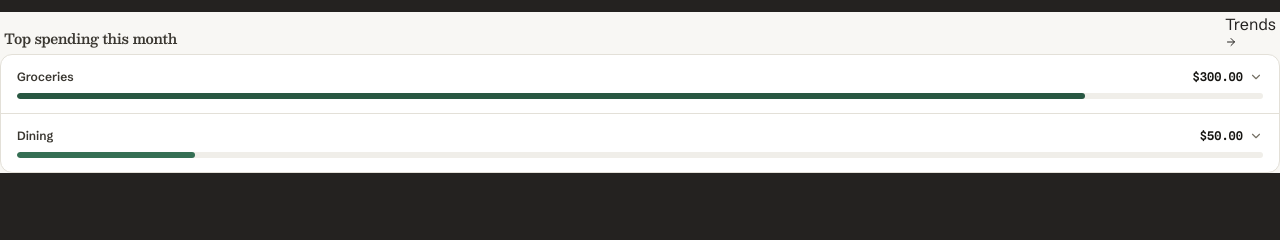
Test: CategorySpendWidget › expands a row to list its month transactions, and collapses it again
Expected: the text "Safeway" is not shown
Click the button "Groceries $300.00": click(45, 76) [17,69,1263,99]
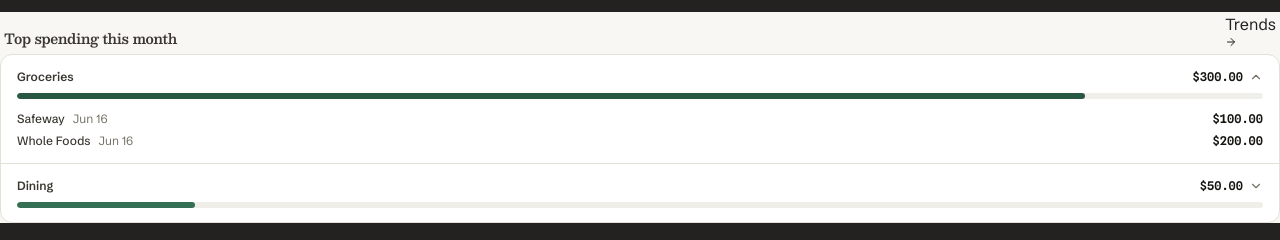
Now the button "Groceries $300.00" is expanded
Now the text "Safeway" is shown, box [17,111,65,127]
Now the text "Whole Foods" is shown, box [17,133,90,149]
Click the button "Groceries $300.00": click(45, 76) [17,69,1263,99]
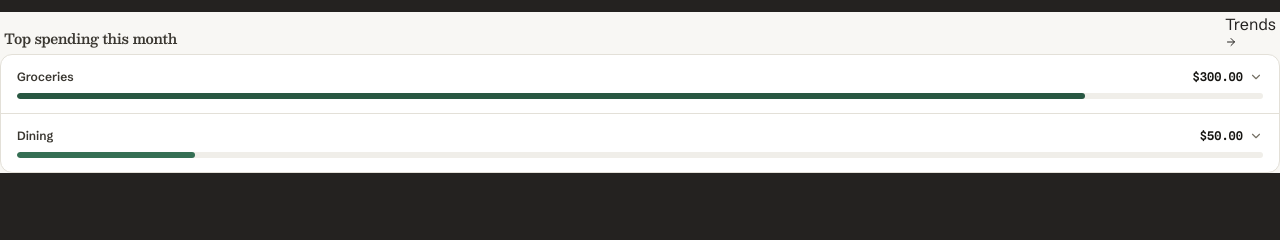
Now the button "Groceries $300.00" is collapsed, box [17,69,1263,99]
Now the text "Safeway" is gone
